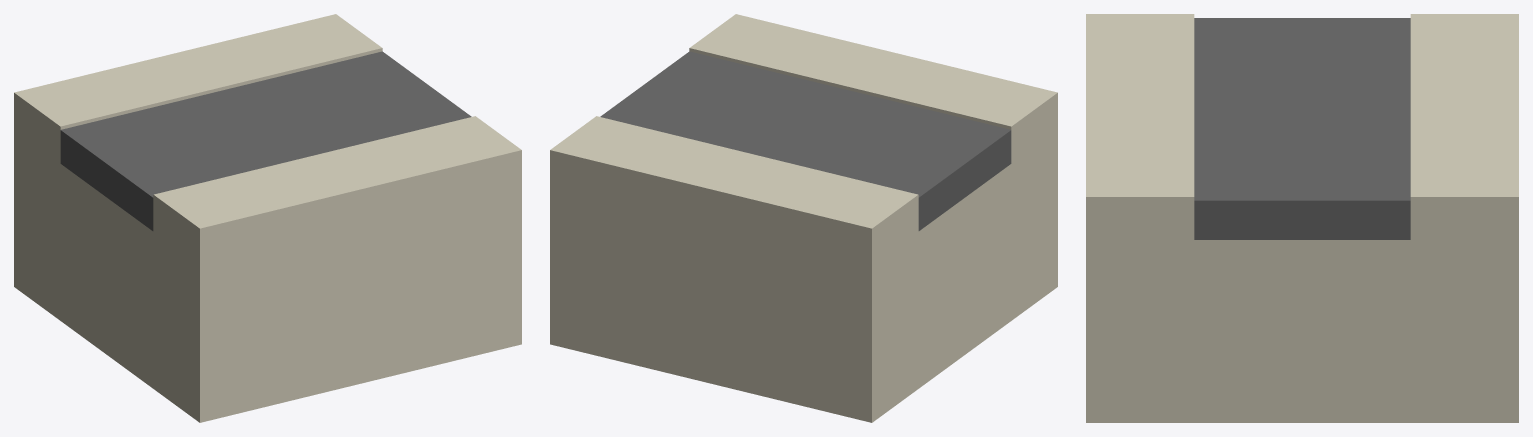
File: tile254.dae
3 views of the same model, side by side, from view 1: azimuth 30°, elevation 25°; view 2: azimuth 150°, elevation 25°; view 3: azimuth 270°, elevation 25° (orthographic). The views are drawn at different scales.
Parts seen in each view (by area): view 1: tile254; view 2: tile254; view 3: tile254.
Boxes of the visible parts, x1=… form: tile254: x1=14, y1=14, x2=521, y2=422; tile254: x1=550, y1=14, x2=1057, y2=422; tile254: x1=1086, y1=14, x2=1518, y2=422.
Bounding box in the file's own units: 1 × 0.5767 × 1.
